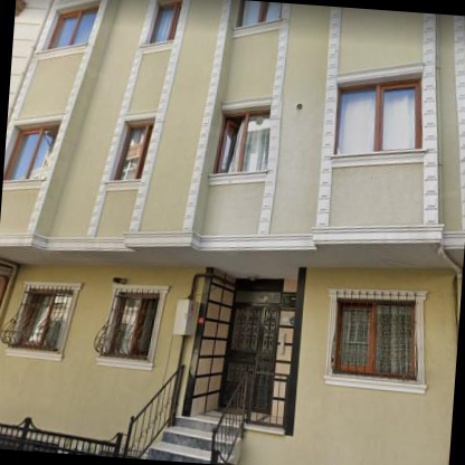door: (219, 307, 279, 412)
